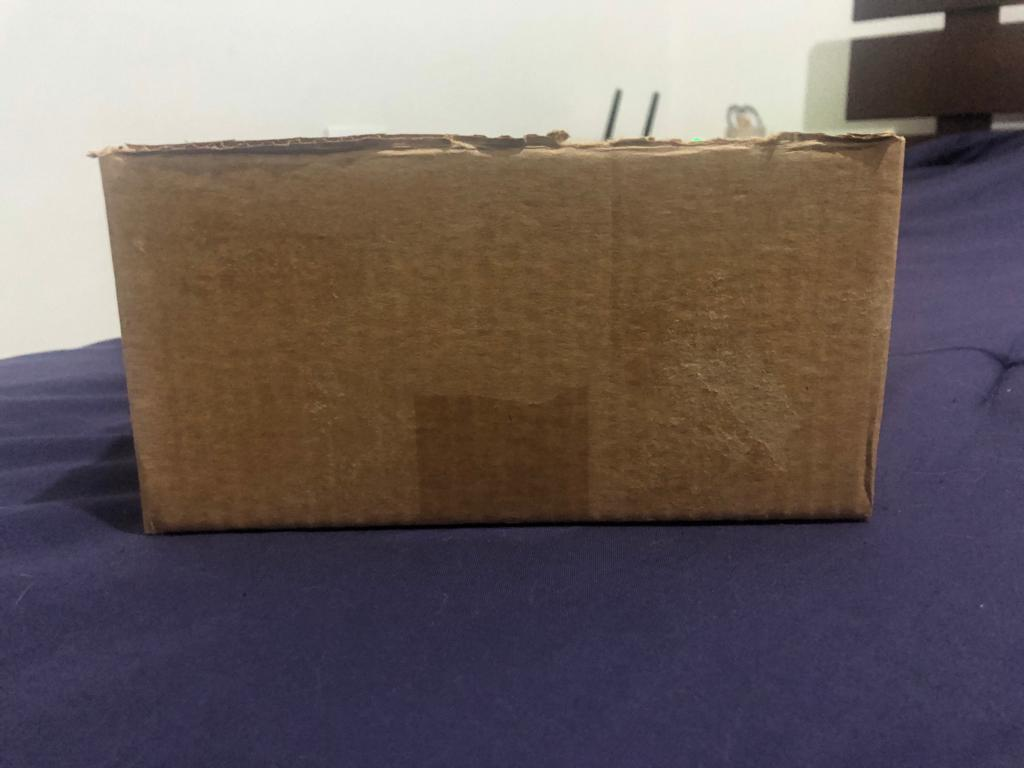CBox: (98, 138, 898, 529)
